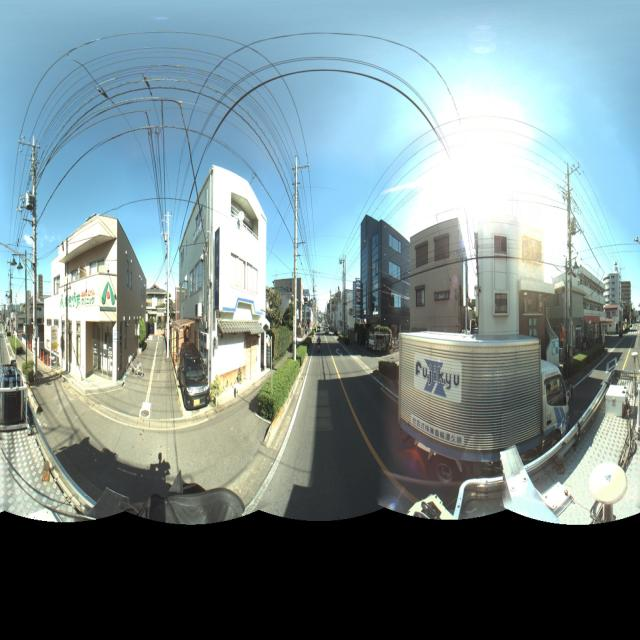b_1: (172, 153, 267, 390), (41, 218, 157, 382), (410, 220, 468, 339), (476, 218, 520, 347), (360, 216, 409, 326), (569, 258, 607, 328), (606, 266, 620, 321), (620, 278, 629, 334)
b_2: (269, 270, 310, 376), (144, 281, 174, 344)
